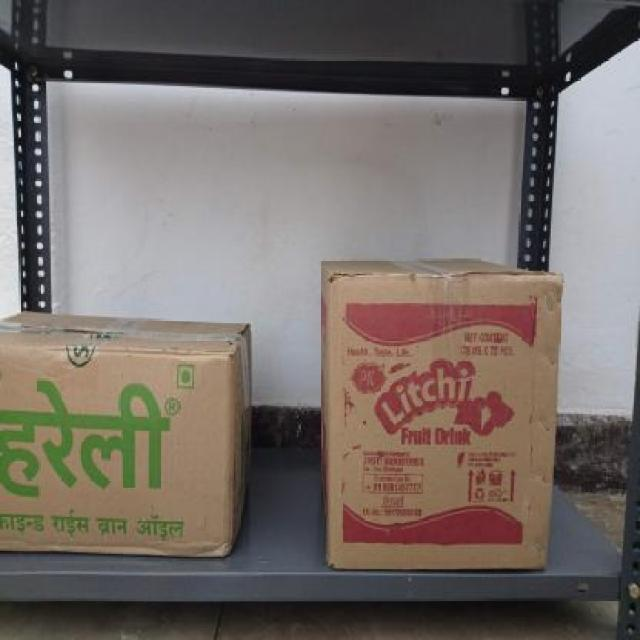box: (330, 274, 552, 572), (1, 345, 238, 558)
